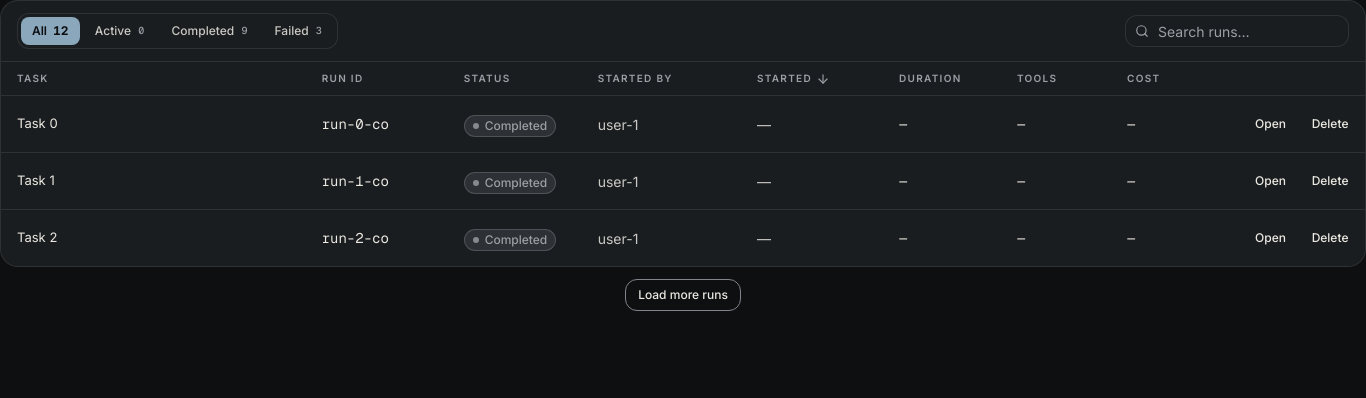
Agent runs tab › appends the next page on load more and hides the button on the last page
This screenshot has width=1366, height=398.
expect the text "Task 0" is shown: met, box 17,115 -> 58,133
Click the button "Load more runs": (683,295) 625,279 -> 741,311
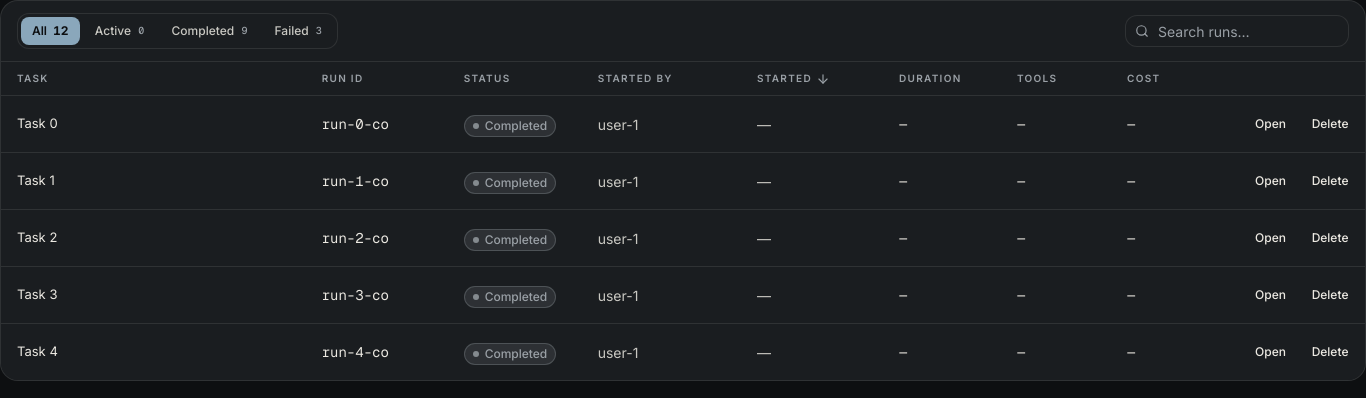
expect the text "Task 0" is shown: met, box 17,115 -> 58,133
expect the text "Task 4" is shown: met, box 17,343 -> 58,361
expect the button "Load more runs" is gone: met
